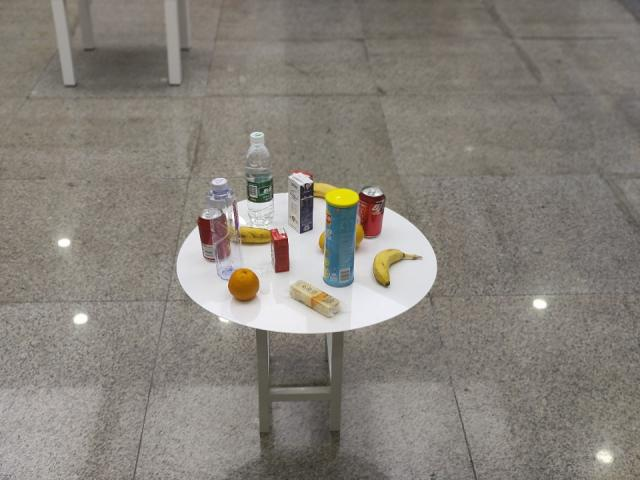Canned_drinks: (359, 188, 385, 239)
bottle: (209, 179, 244, 277), (245, 130, 276, 226)
cylinder: (323, 190, 356, 286)
drink_box: (288, 175, 314, 237), (270, 228, 292, 270)
